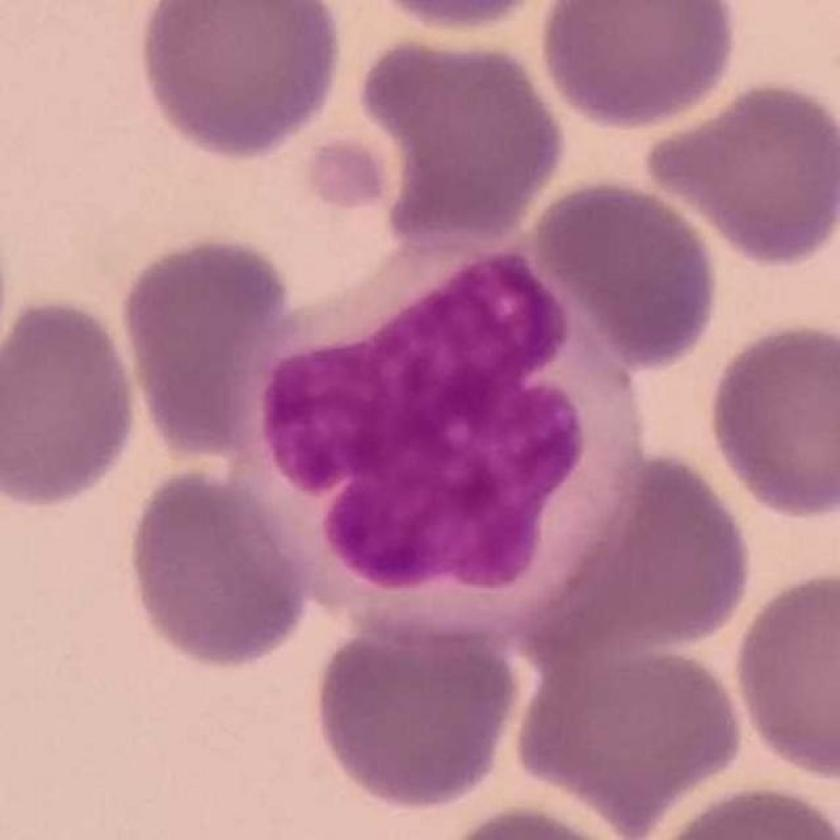monocyte: (234, 226, 654, 651)
